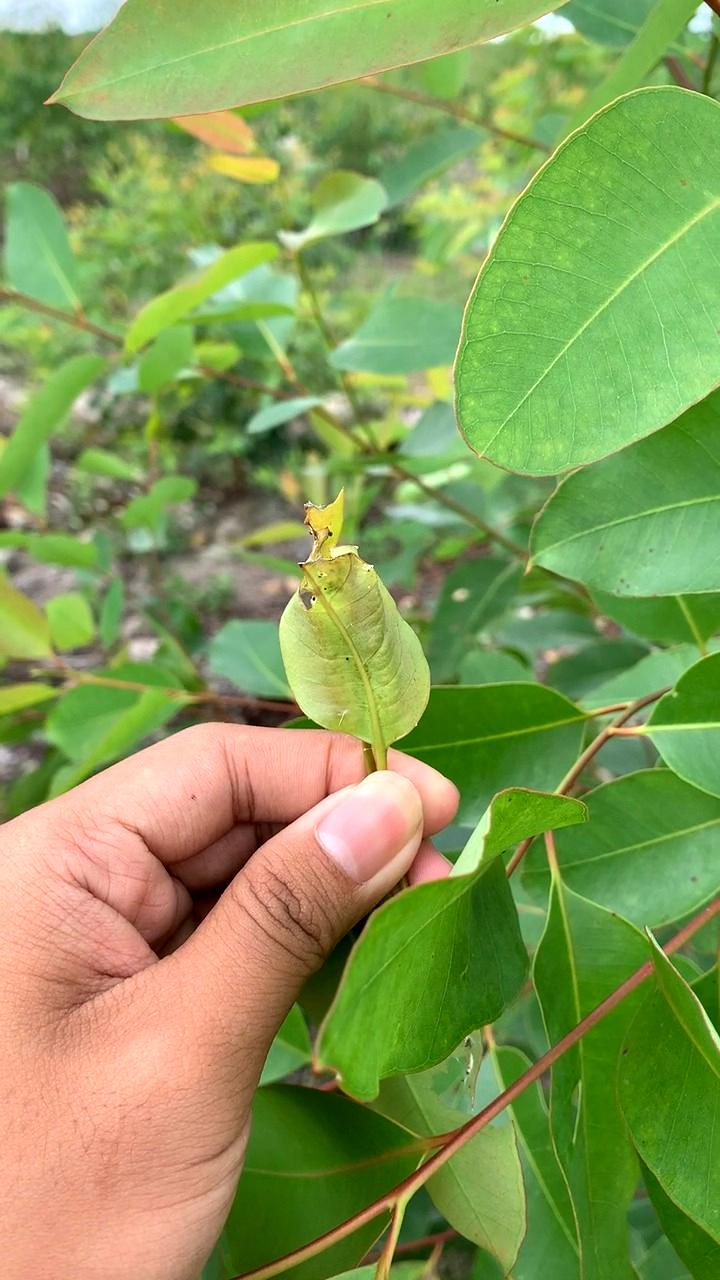Leaf Roller - Leaf: (266, 483, 443, 751)
